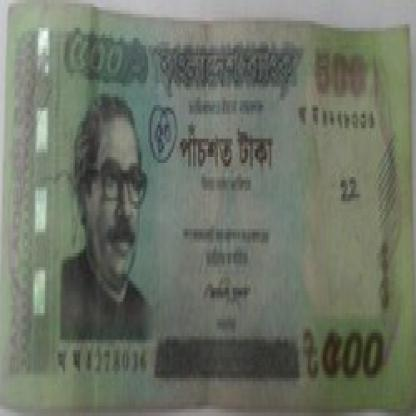500 taka: (172, 122, 286, 180), (52, 28, 138, 86)
currency: (3, 10, 414, 409)
